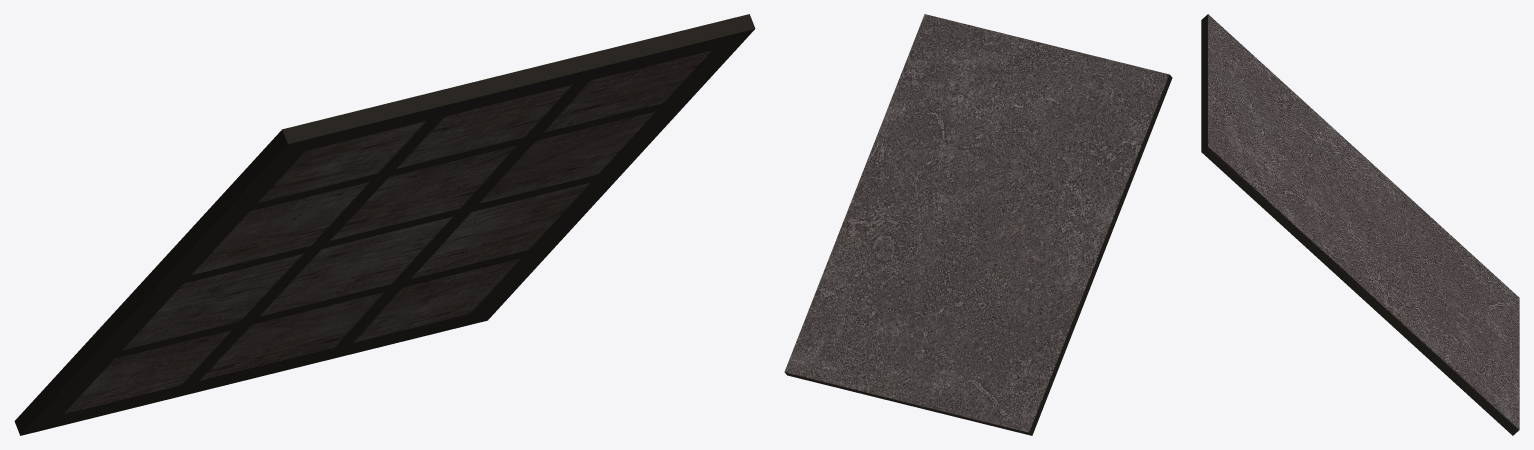
Rendered from stone_roof_square_textured.glb.
3 renders of one model, left to right at view 1: azimuth 30°, elevation 25°; view 2: azimuth 150°, elevation 25°; view 3: azimuth 270°, elevation 25°, orthographic. The views are drawn at different scales.
Parts seen in each view (by area): view 1: Plane; view 2: Plane; view 3: Plane.
Part boxes in pixels (x1=…): Plane: x1=14, y1=14, x2=755, y2=435; Plane: x1=784, y1=14, x2=1172, y2=435; Plane: x1=1201, y1=14, x2=1519, y2=435.
Size of the model in its own units: 2.23 by 2.28 by 2.26.
1 material, 1 textured.
